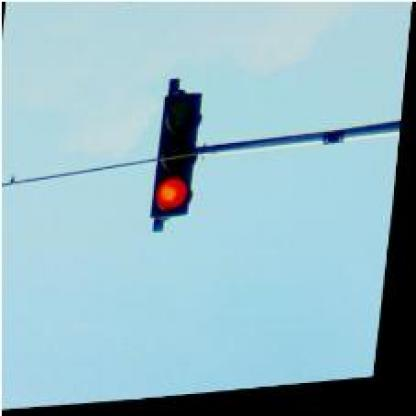red: (150, 92, 206, 224)
